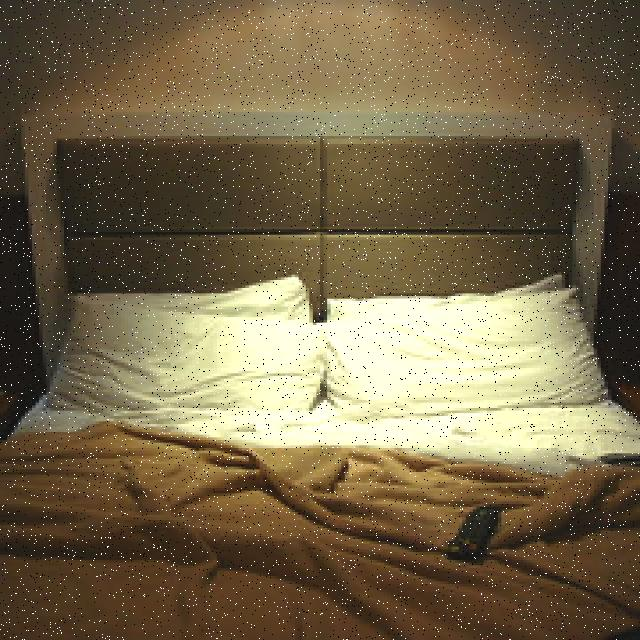bed: (0, 182, 631, 640)
